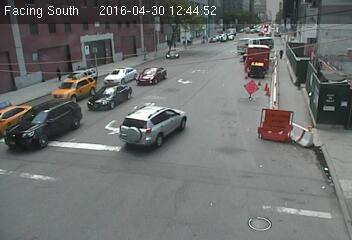neg: (178, 53, 192, 71), (159, 105, 171, 121), (248, 83, 260, 98), (280, 101, 289, 113), (87, 101, 95, 112)
pos: (51, 65, 63, 81), (276, 46, 286, 59)
